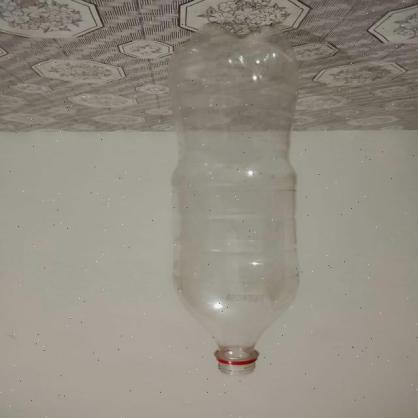bottle: (161, 21, 301, 375)
